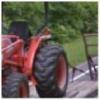tractors: (2, 20, 70, 98)
